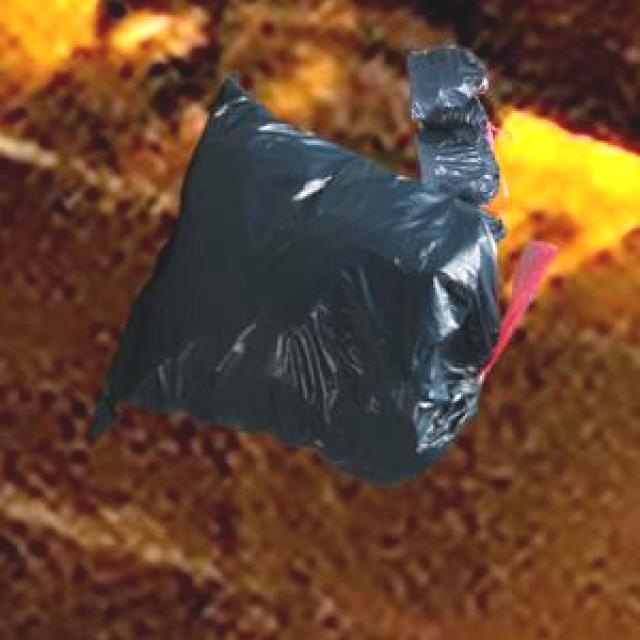Trashbag: (84, 77, 500, 551)
